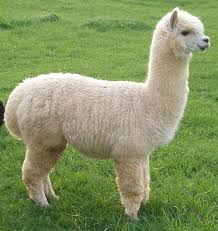alpaca: (4, 6, 209, 220)
